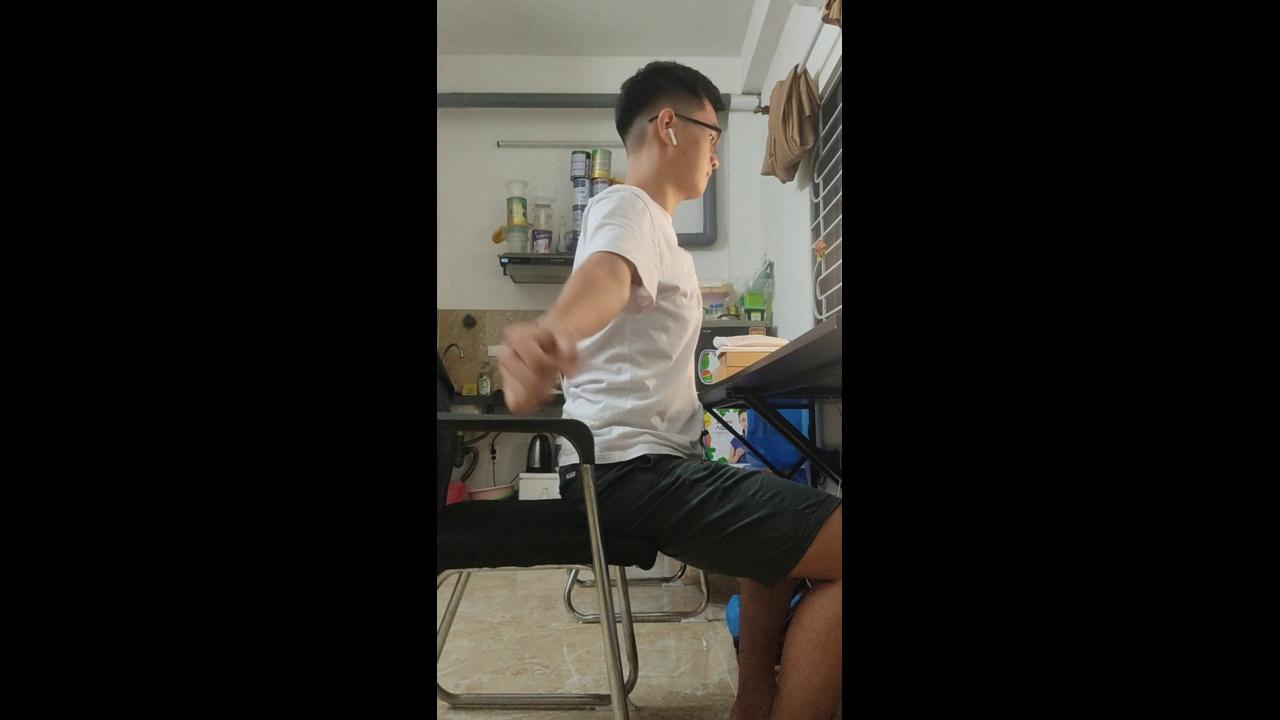GoodPosture: (498, 61, 846, 719), (498, 61, 844, 719)
